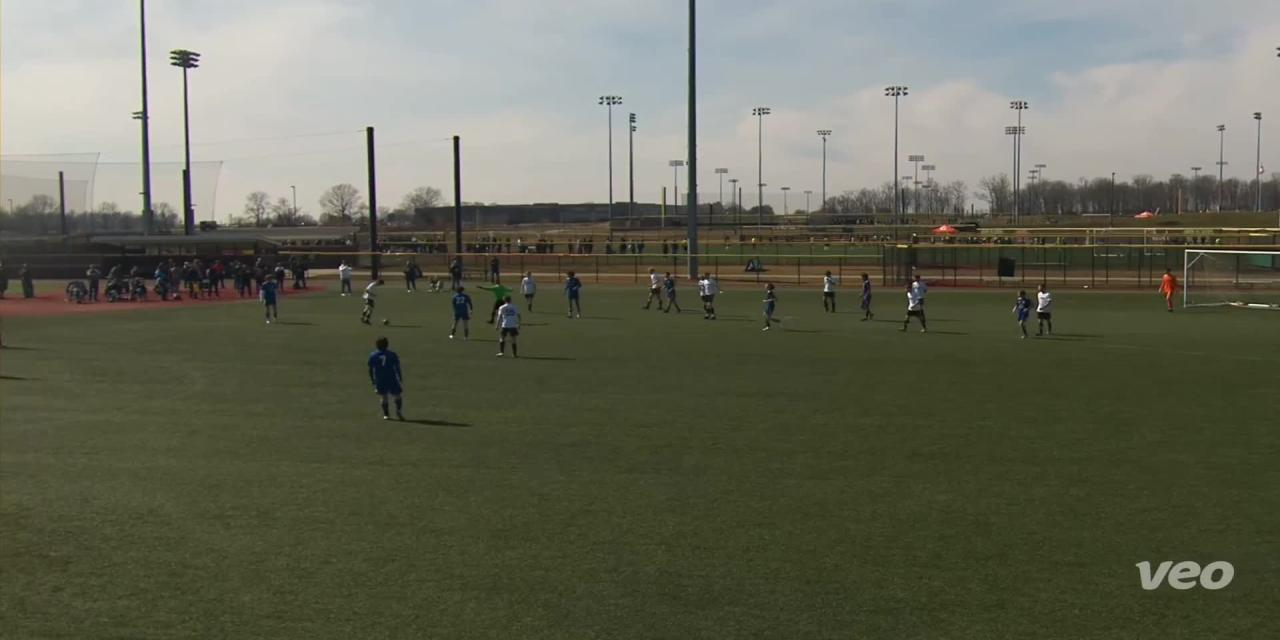goal: (1164, 230, 1280, 328)
sports ball: (380, 313, 396, 330)
